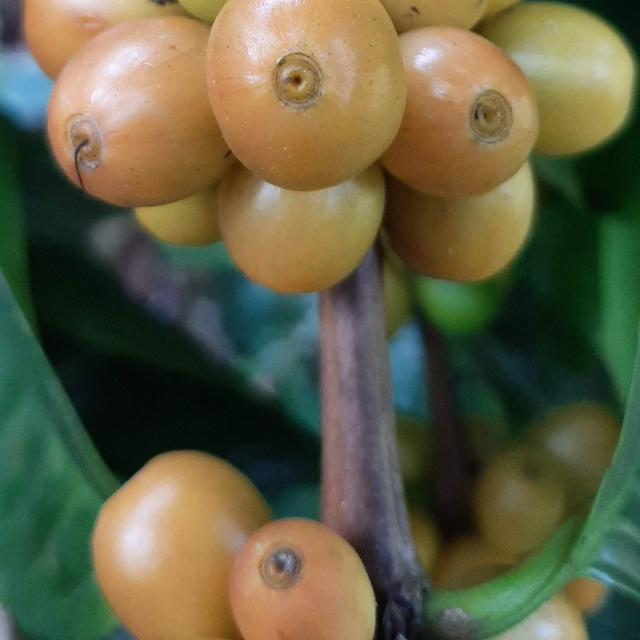green: (477, 1, 637, 156), (385, 161, 536, 281), (134, 182, 221, 246)
red: (206, 0, 407, 191), (47, 15, 234, 207), (91, 451, 271, 640), (382, 26, 540, 197), (217, 162, 385, 294)
